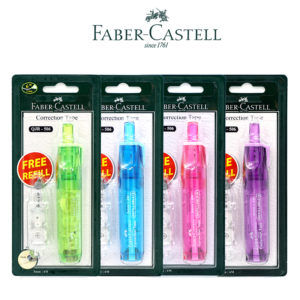Correction_fluid: (239, 120, 272, 264), (174, 119, 207, 263), (113, 120, 146, 264), (53, 120, 86, 264)
